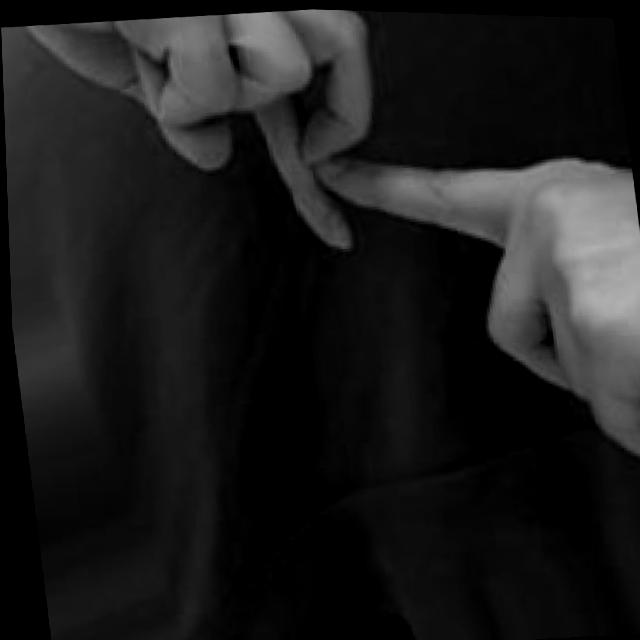R: (25, 1, 640, 518)
